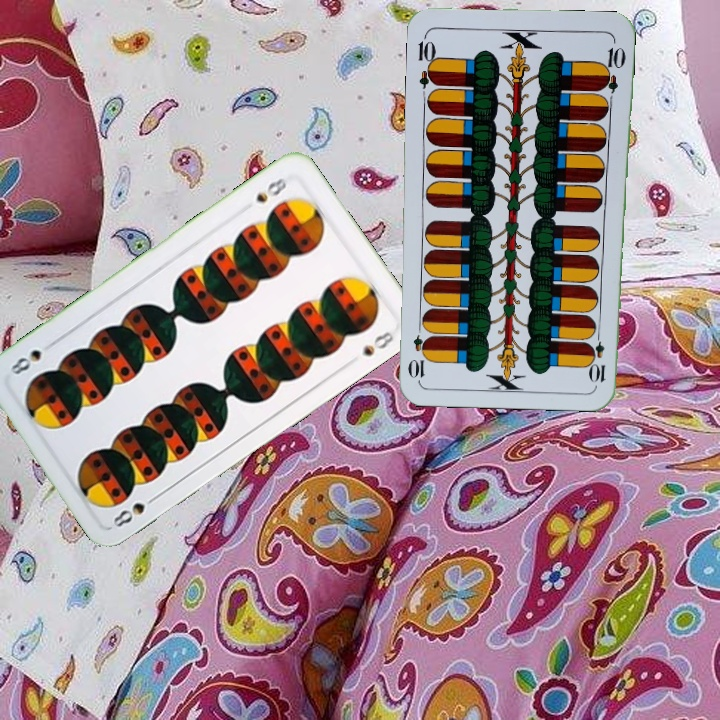E10: (414, 31, 440, 90), (589, 326, 608, 385)
S8: (108, 490, 162, 530), (251, 173, 289, 206)
